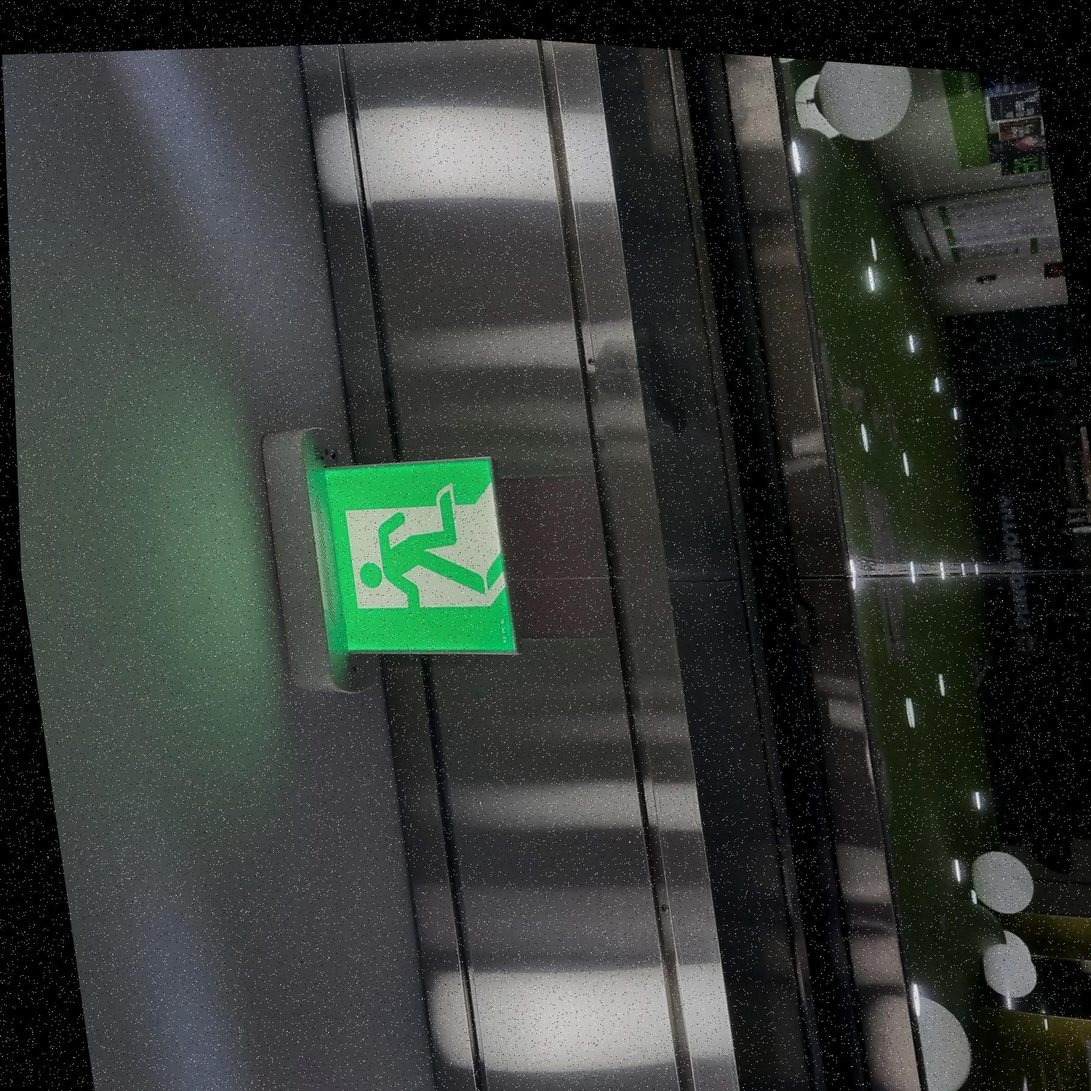emergency_exit: (314, 452, 521, 662)
